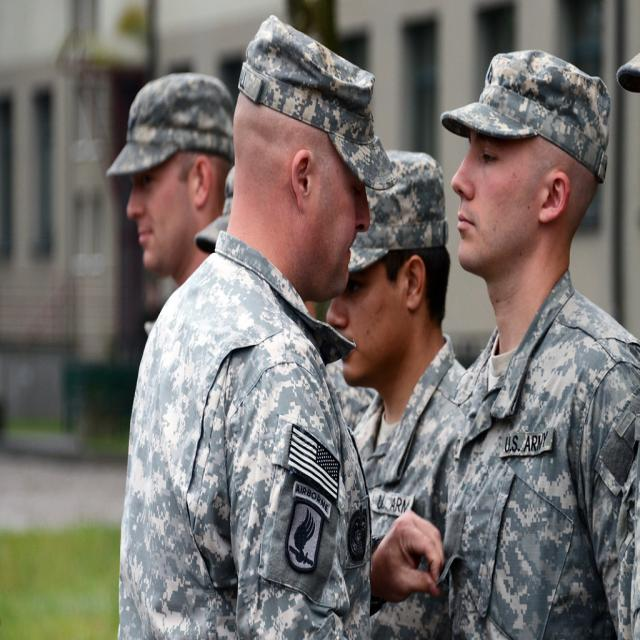illegal_helmet: (229, 7, 402, 306), (433, 39, 617, 291), (101, 68, 241, 282)
